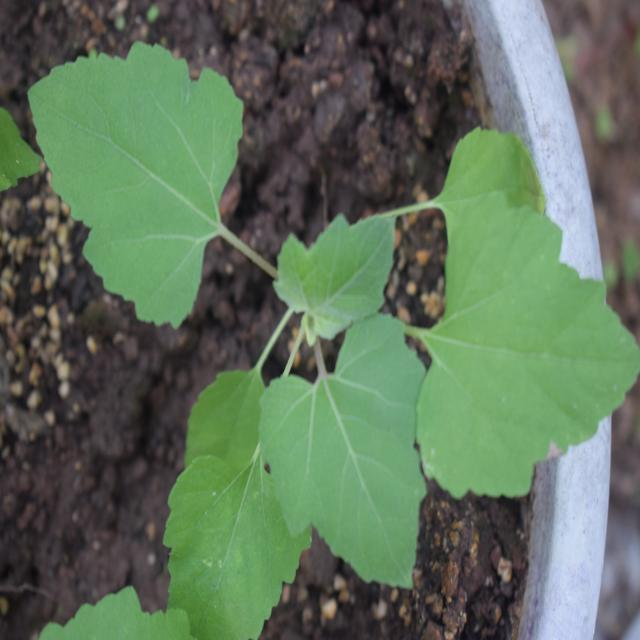cocklebur: (47, 51, 635, 594)
